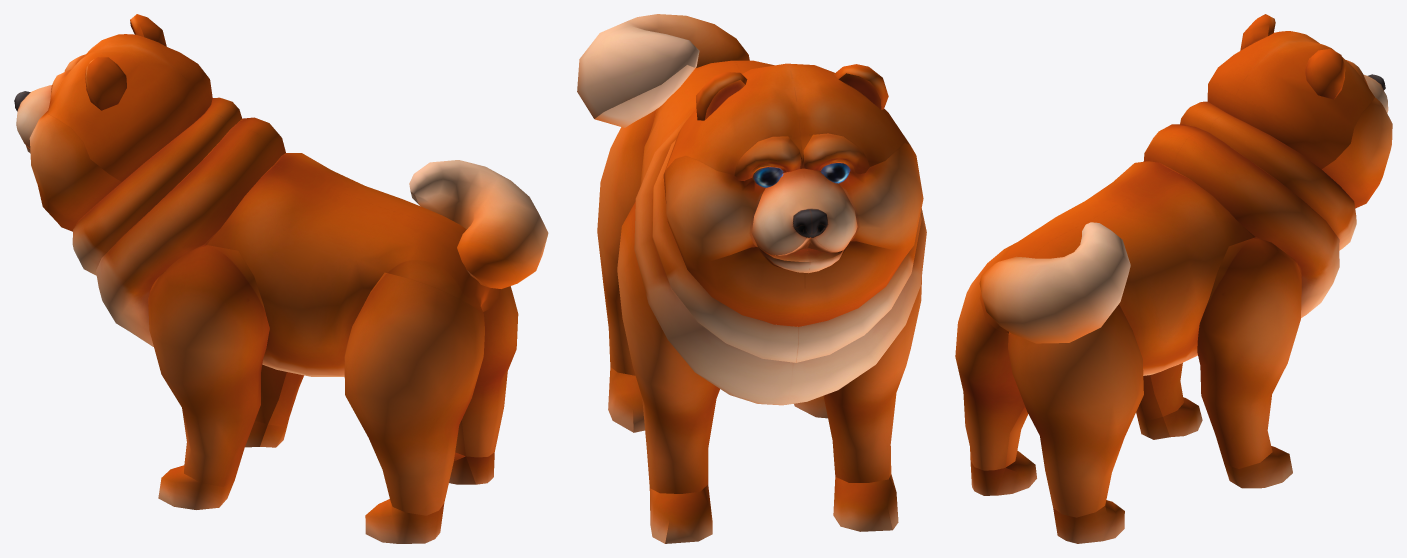
The model's file is RedDog.obj.
3 views of the same model, side by side, from view 1: azimuth 30°, elevation 25°; view 2: azimuth 150°, elevation 25°; view 3: azimuth 270°, elevation 25° (orthographic). The views are drawn at different scales.
Visible parts, largest first — view 1: Perro_naranja; view 2: Perro_naranja; view 3: Perro_naranja.
Part boxes in pixels (box(x1,y1,x2,y2)): Perro_naranja: box(14, 14, 548, 543); Perro_naranja: box(577, 14, 926, 543); Perro_naranja: box(955, 14, 1392, 543).
Size of the model in its own units: 4.37 by 4.54 by 4.57.
1 material, 1 textured.
